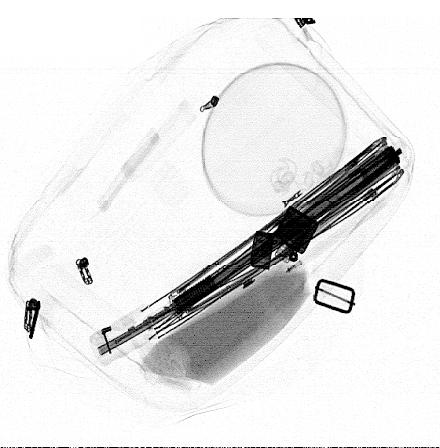Lighter: (250, 205, 320, 271)
